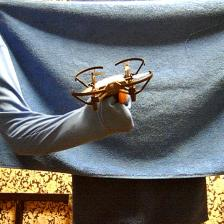drone: (71, 57, 152, 106)
